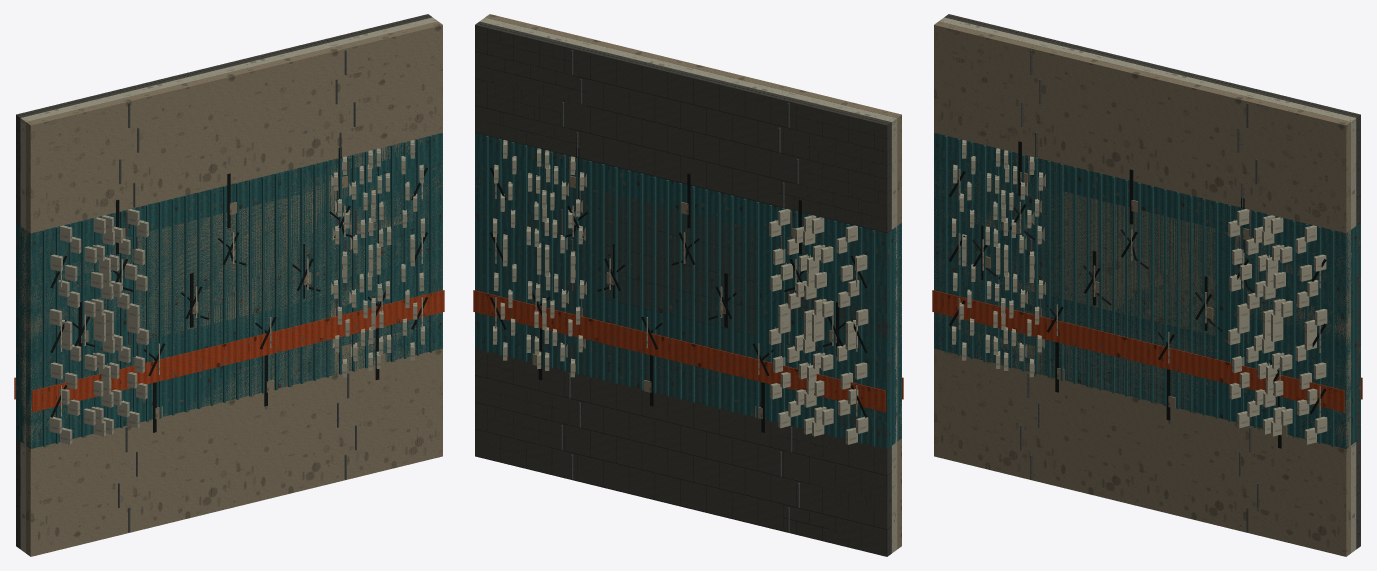
File: panel-library-materials-v2.glb
3 views of the same model, side by side, from view 1: azimuth 30°, elevation 25°; view 2: azimuth 150°, elevation 25°; view 3: azimuth 330°, elevation 25° (orthographic).
Visible parts, largest first — view 1: P17__layered_roof__Pristine__concrete, P17__corrugated_wall__Pristine__teal, P17__layered_roof__Heavy__concrete, P17__corrugated_wall__Heavy__teal, P17__corrugated_window__Pristine__teal, P17__corrugated_window__Pristine__orange, P17__corrugated_wall__Pristine__orange, P17__corrugated_garage__Pristine__teal, P17__layered_roof__Pristine__ivory, P17__corrugated_wall__Heavy__ivory, P17__corrugated_garage__Heavy__ivory, P17__corrugated_door__Heavy__ivory (+15 smaller); view 2: P17__layered_roof__Pristine__roof, P17__corrugated_wall__Pristine__teal, P17__layered_roof__Heavy__roof, P17__corrugated_window__Pristine__teal, P17__corrugated_wall__Heavy__teal, P17__corrugated_door__Pristine__teal, P17__corrugated_wall__Pristine__orange, P17__corrugated_wall__Heavy__ivory, P17__corrugated_garage__Heavy__ivory, P17__corrugated_door__Heavy__ivory, P17__layered_roof__Pristine__ivory, P17__corrugated_window__Heavy__ivory (+14 smaller); view 3: P17__layered_roof__Pristine__concrete, P17__corrugated_wall__Pristine__teal, P17__layered_roof__Heavy__concrete, P17__corrugated_window__Pristine__teal, P17__corrugated_wall__Heavy__teal, P17__corrugated_door__Pristine__teal, P17__corrugated_wall__Pristine__orange, P17__corrugated_wall__Heavy__ivory, P17__corrugated_garage__Heavy__ivory, P17__corrugated_door__Heavy__ivory, P17__layered_roof__Pristine__ivory, P17__layered_roof__Pristine__roof (+14 smaller).
Part boxes in pixels (x1=…): P17__layered_roof__Pristine__concrete: x1=26, y1=21, x2=442, y2=556; P17__corrugated_wall__Pristine__teal: x1=16, y1=133, x2=442, y2=448; P17__layered_roof__Heavy__concrete: x1=26, y1=22, x2=442, y2=556; P17__corrugated_wall__Heavy__teal: x1=16, y1=133, x2=442, y2=447; P17__corrugated_window__Pristine__teal: x1=31, y1=133, x2=442, y2=448; P17__corrugated_window__Pristine__orange: x1=15, y1=291, x2=443, y2=411; P17__corrugated_wall__Pristine__orange: x1=14, y1=290, x2=444, y2=412; P17__corrugated_garage__Pristine__teal: x1=31, y1=135, x2=442, y2=447; P17__layered_roof__Pristine__ivory: x1=20, y1=17, x2=437, y2=552; P17__corrugated_wall__Heavy__ivory: x1=117, y1=156, x2=357, y2=428; P17__corrugated_garage__Heavy__ivory: x1=49, y1=140, x2=424, y2=444; P17__corrugated_door__Heavy__ivory: x1=84, y1=148, x2=391, y2=436; P17__layered_roof__Pristine__roof: x1=475, y1=21, x2=891, y2=556; P17__corrugated_wall__Pristine__teal: x1=475, y1=133, x2=901, y2=448; P17__layered_roof__Heavy__roof: x1=475, y1=22, x2=891, y2=556; P17__corrugated_window__Pristine__teal: x1=475, y1=134, x2=887, y2=447; P17__corrugated_wall__Heavy__teal: x1=475, y1=133, x2=901, y2=448; P17__corrugated_door__Pristine__teal: x1=475, y1=137, x2=886, y2=448; P17__corrugated_wall__Pristine__orange: x1=473, y1=290, x2=903, y2=412; P17__corrugated_wall__Heavy__ivory: x1=560, y1=156, x2=800, y2=428; P17__corrugated_garage__Heavy__ivory: x1=493, y1=140, x2=868, y2=444; P17__corrugated_door__Heavy__ivory: x1=526, y1=148, x2=833, y2=436; P17__layered_roof__Pristine__ivory: x1=480, y1=17, x2=897, y2=552; P17__corrugated_window__Heavy__ivory: x1=534, y1=150, x2=826, y2=434; P17__layered_roof__Pristine__concrete: x1=934, y1=21, x2=1350, y2=556; P17__corrugated_wall__Pristine__teal: x1=934, y1=133, x2=1360, y2=448; P17__layered_roof__Heavy__concrete: x1=934, y1=21, x2=1350, y2=556; P17__corrugated_window__Pristine__teal: x1=934, y1=134, x2=1346, y2=447; P17__corrugated_wall__Heavy__teal: x1=934, y1=133, x2=1360, y2=448; P17__corrugated_door__Pristine__teal: x1=934, y1=137, x2=1345, y2=448; P17__corrugated_wall__Pristine__orange: x1=932, y1=290, x2=1362, y2=412; P17__corrugated_wall__Heavy__ivory: x1=1019, y1=156, x2=1259, y2=428; P17__corrugated_garage__Heavy__ivory: x1=952, y1=140, x2=1327, y2=444; P17__corrugated_door__Heavy__ivory: x1=985, y1=148, x2=1292, y2=436; P17__layered_roof__Pristine__ivory: x1=939, y1=17, x2=1356, y2=552; P17__layered_roof__Pristine__roof: x1=944, y1=14, x2=1360, y2=548.
Size of the model in its own units: 16 by 16 by 1.74.
7 materials, 7 textured.
